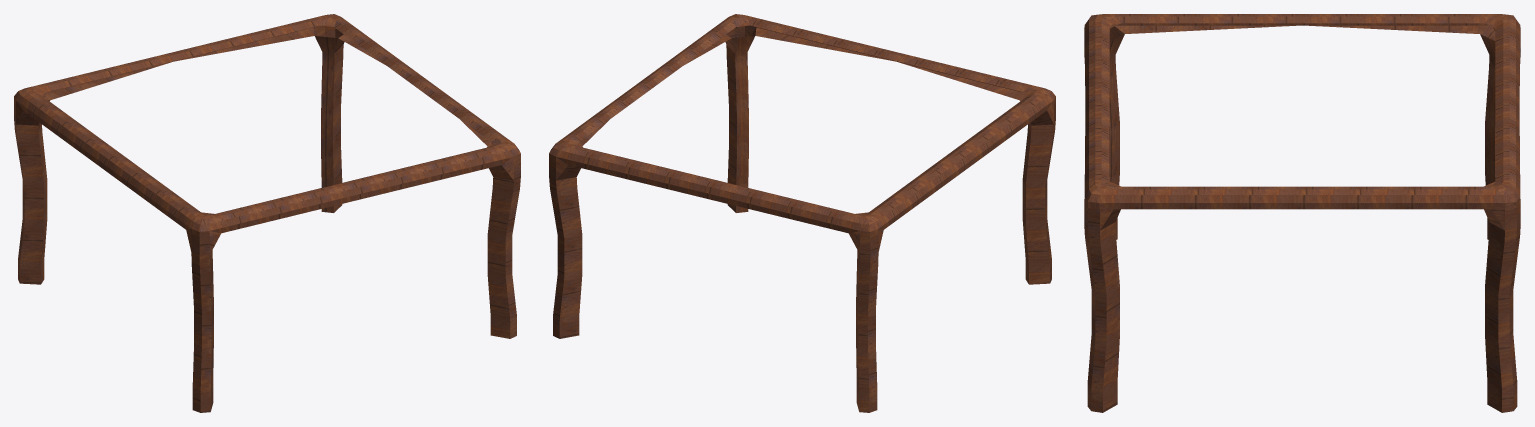
The model's file is Table.obj.
The picture shows the model from 3 angles, left to right: view 1: azimuth 30°, elevation 25°; view 2: azimuth 150°, elevation 25°; view 3: azimuth 270°, elevation 25°; orthographic projection. The views are drawn at different scales.
Parts seen in each view (by area): view 1: Plane.009_Plane.029; view 2: Plane.009_Plane.029; view 3: Plane.009_Plane.029.
Part boxes in pixels (bbox=[...]): Plane.009_Plane.029: bbox=[14, 14, 520, 412]; Plane.009_Plane.029: bbox=[549, 14, 1055, 412]; Plane.009_Plane.029: bbox=[1084, 14, 1520, 412].
Size of the model in its own units: 6.18 by 3.44 by 6.18.
